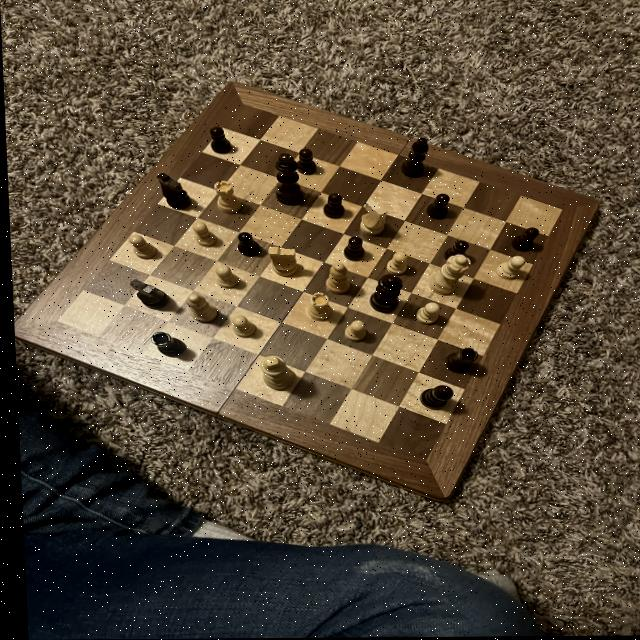bishop: (397, 135, 430, 179), (414, 384, 451, 412)
black-bishop: (270, 151, 307, 207)
black-king: (152, 170, 192, 213), (126, 276, 170, 311)
black-knight: (505, 227, 540, 255), (422, 192, 451, 223), (205, 125, 233, 155), (293, 147, 319, 177), (233, 230, 261, 257), (321, 192, 347, 221), (340, 236, 365, 262), (441, 240, 467, 262)
black-pawn: (364, 273, 404, 316)
black-queen: (439, 346, 477, 377), (147, 331, 184, 360)
black-rook: (182, 293, 218, 325), (320, 263, 352, 295)
white-bishop: (256, 356, 295, 392)
white-king: (355, 200, 388, 237), (265, 246, 298, 279)
white-knight: (490, 255, 526, 282), (125, 234, 157, 262), (225, 313, 255, 341), (212, 264, 239, 291), (381, 251, 408, 277), (412, 301, 439, 327), (189, 221, 216, 247), (339, 319, 367, 343)
white-pawn: (422, 253, 472, 298)
white-queen: (209, 180, 243, 215), (301, 292, 332, 323)
